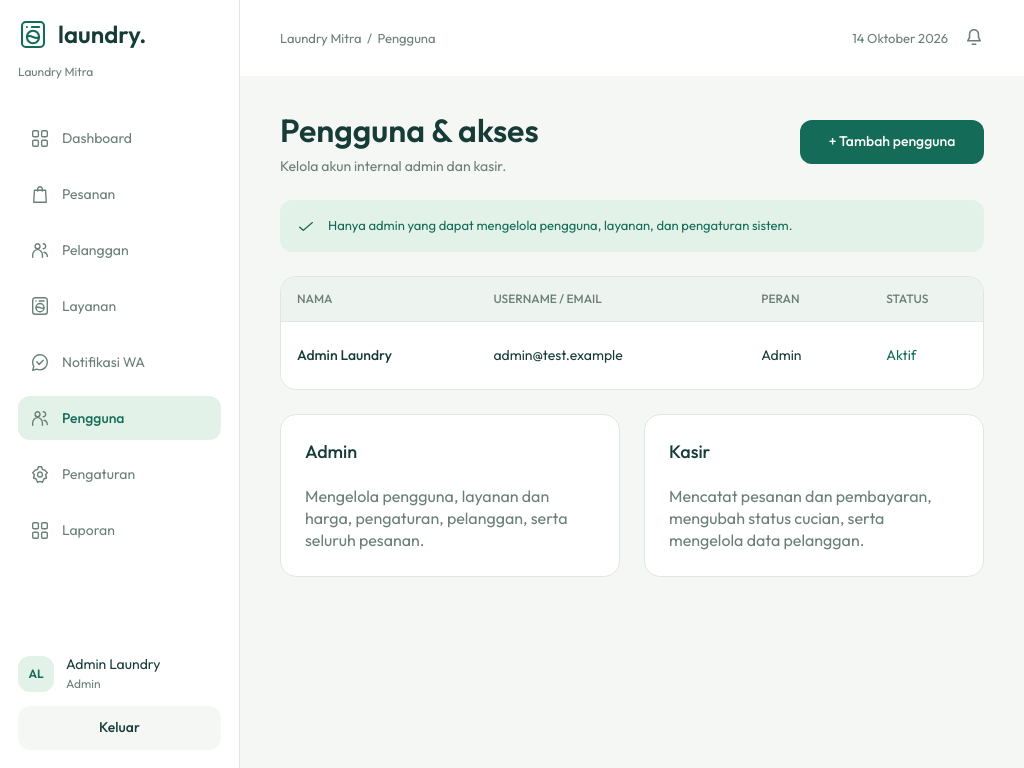
Scenario: validates required fields before submitting and preserves the dialog on a server conflict
Expected: the table is shown, [281,277,984,390]
Click the button "+ Tambah pengguna" at point(892, 142), box [800,120,984,164]
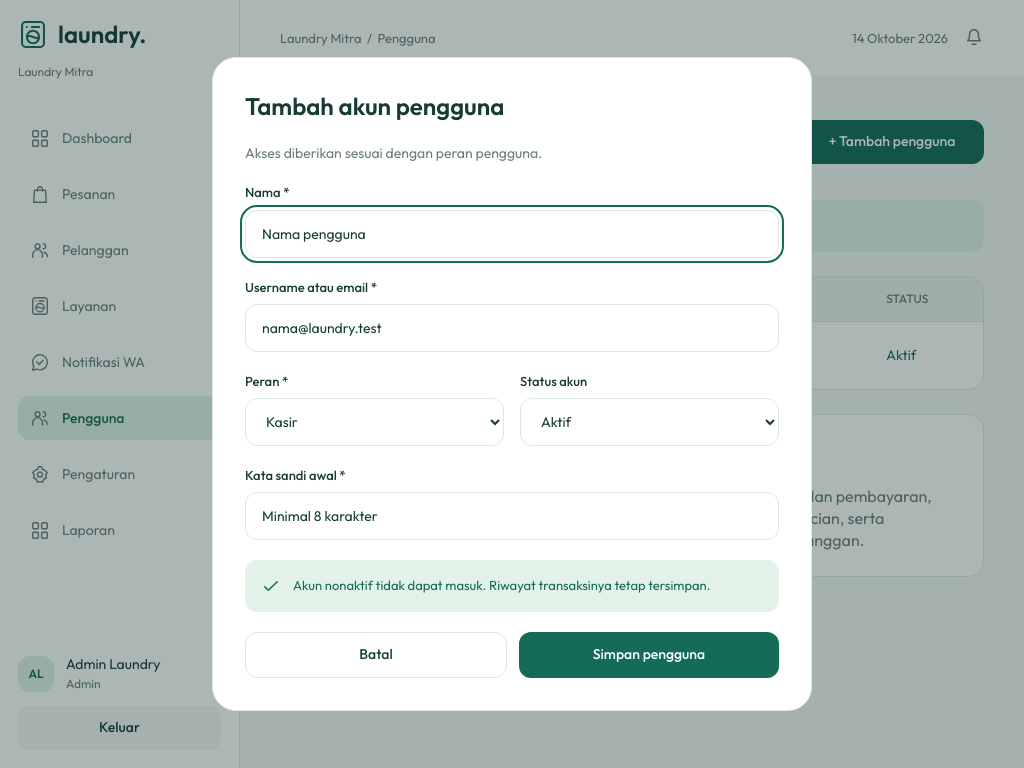
Click the button "Simpan pengguna" at point(649, 655), box [519,632,779,678]
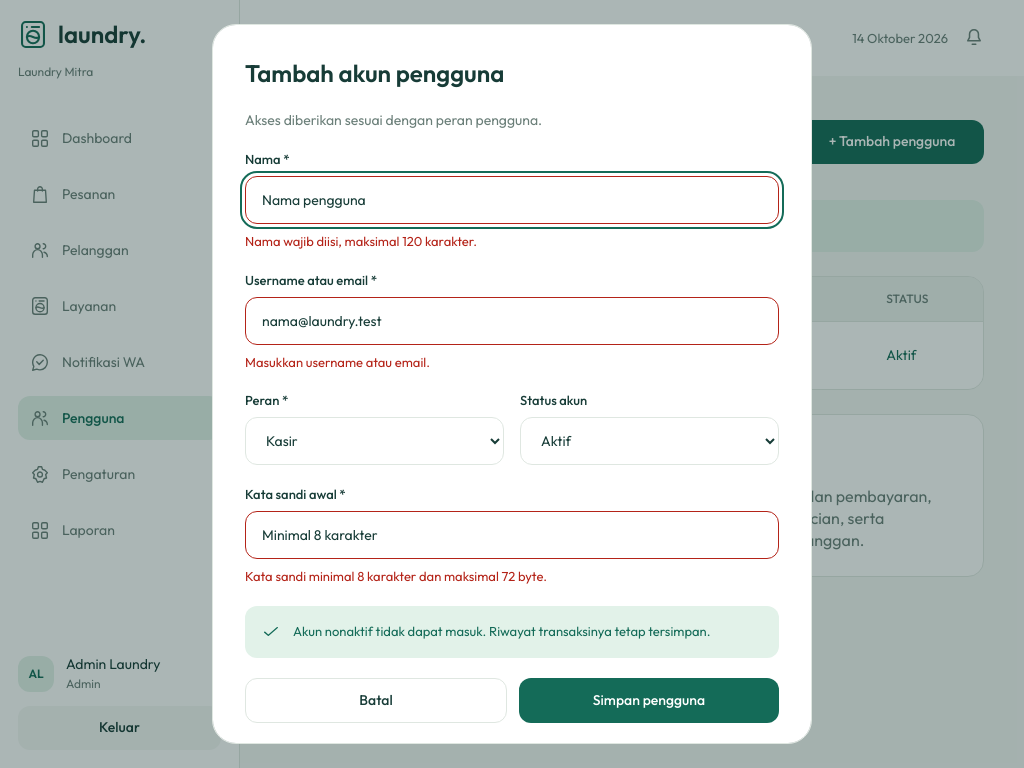
Result: the text "Masukkan username atau email." is shown at [245,354,430,370]
Type "Kasir" into the field labelled "Nama *" at point(512, 200), box [245,176,779,224]
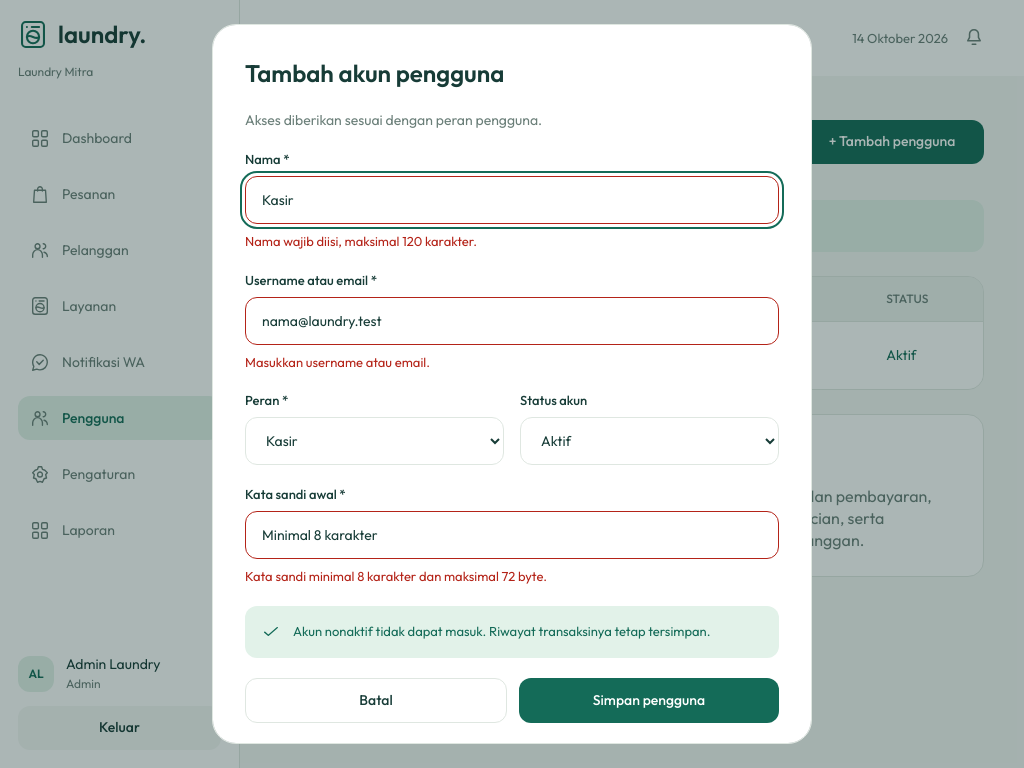
Type "duplicate" into the field labelled "Username atau email *" at point(512, 321), box [245,297,779,345]
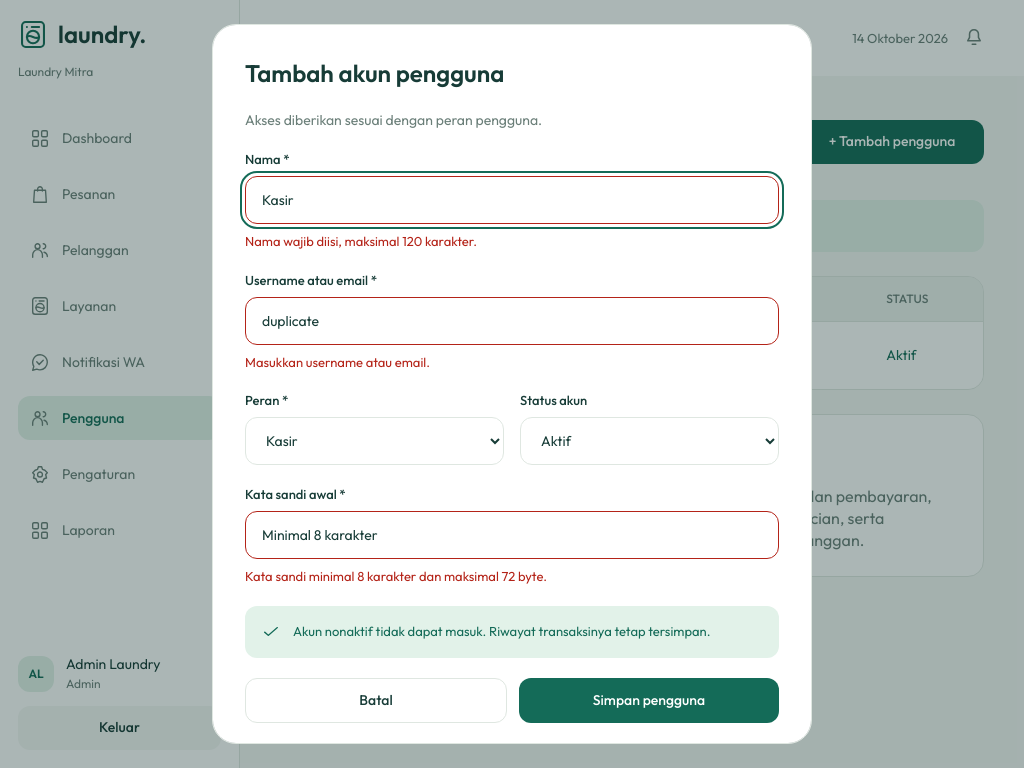
Type "password1234" into the password field labelled "Kata sandi awal *" at point(512, 535), box [245,511,779,559]
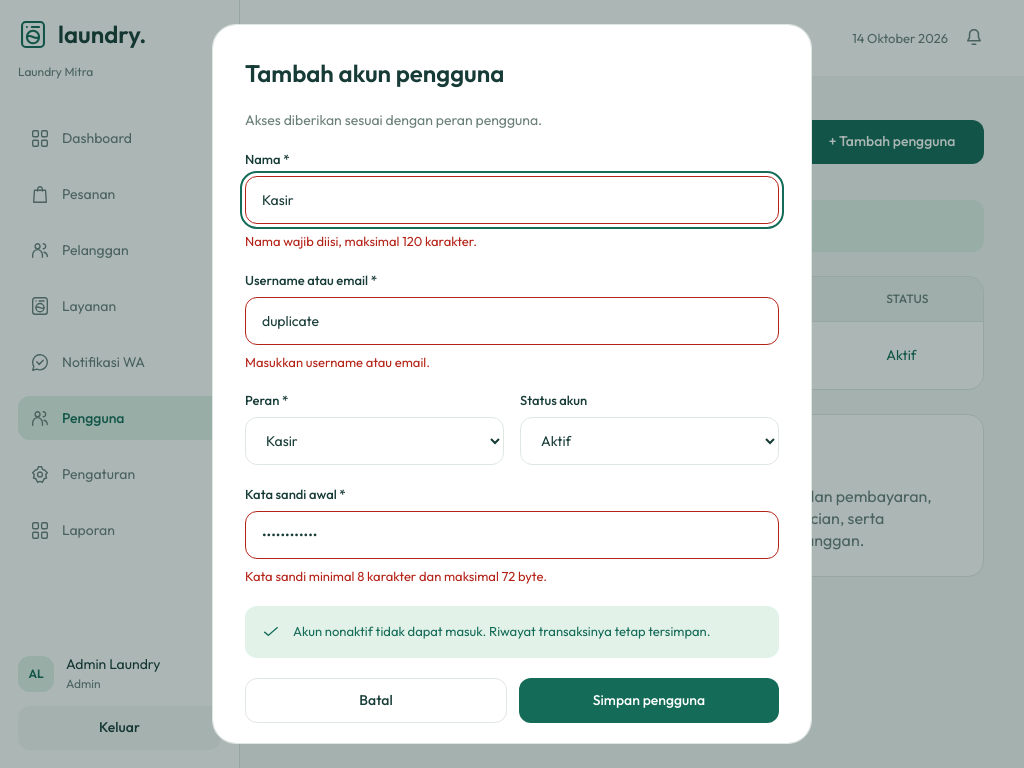
Click the button "Simpan pengguna" at point(649, 700), box [519,678,779,723]
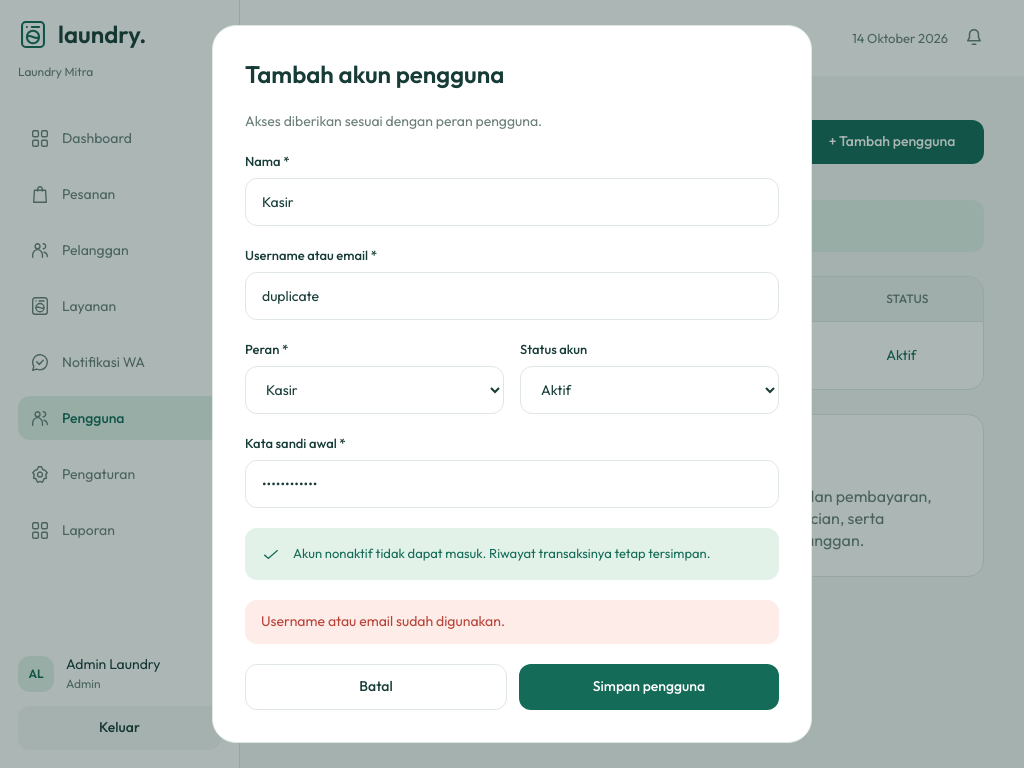
Result: the dialog is shown at [212,25,812,742]
Result: the message reads "Username atau email sudah digunakan." at [261,612,505,630]
